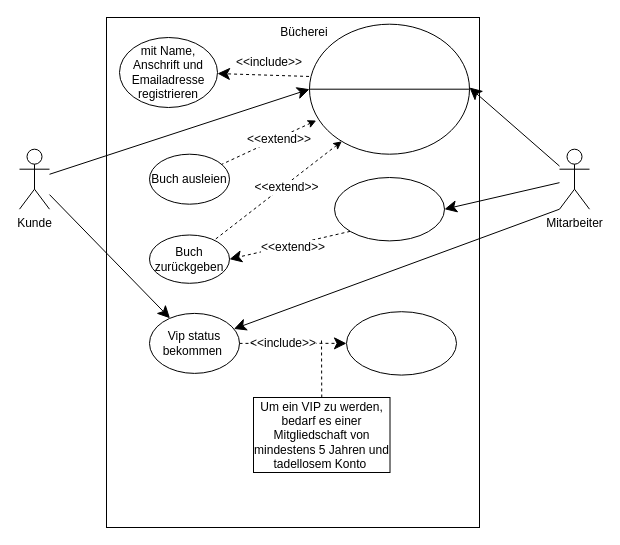
Image size: 620x545. Some labels were removed from this diagram. Each missing label, with the centre of its shape:
Fristverlängerung beantragen: point 389,208
Nutzung eines VIP-Raums: point 401,343
Registrieren Extention Points: Buch ausleien Buch zurückgeben: point 389,88
